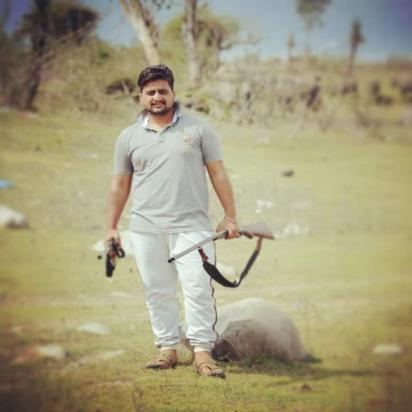Gun: (167, 218, 277, 264), (96, 236, 127, 261)
